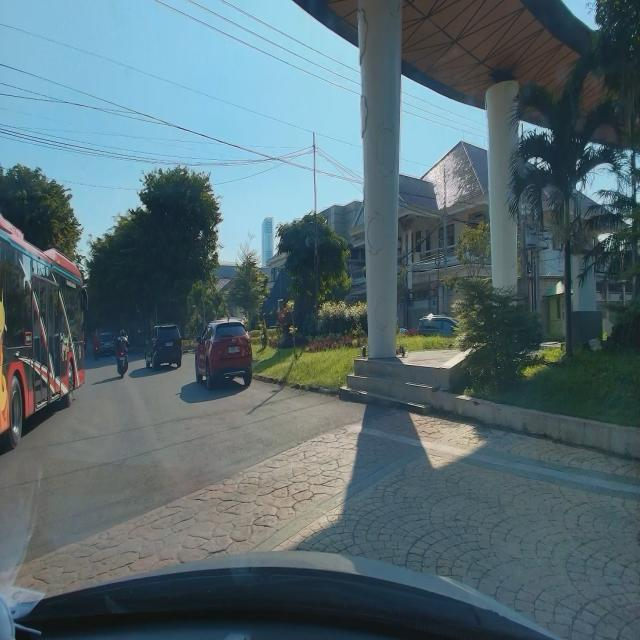bus: (0, 212, 87, 450)
car: (195, 315, 253, 390), (145, 322, 183, 372)
license-plate: (228, 346, 240, 354), (166, 342, 173, 346)
